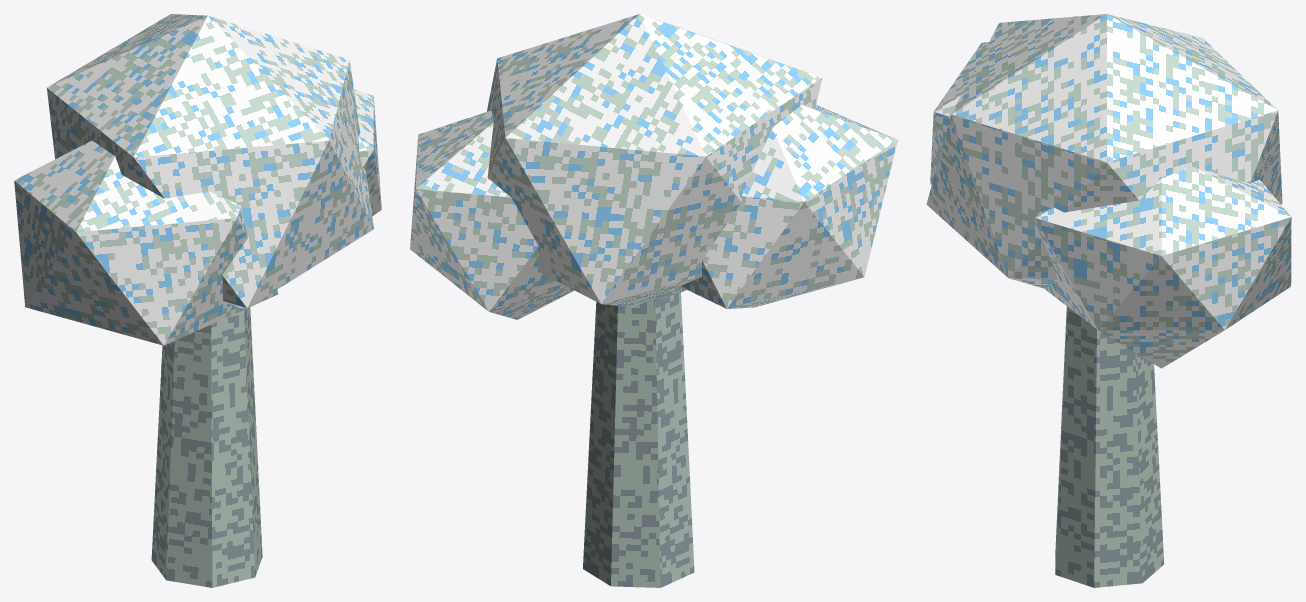
File: r09_arvore_nuvem_2.glb
3 views of the same model, side by side, from view 1: azimuth 30°, elevation 25°; view 2: azimuth 150°, elevation 25°; view 3: azimuth 270°, elevation 25° (orthographic).
Parts seen in each view (by area): view 1: r09_arvore_nuvem_2; view 2: r09_arvore_nuvem_2; view 3: r09_arvore_nuvem_2.
Part boxes in pixels (box(x1,y1,x2,y2)): r09_arvore_nuvem_2: box(14, 14, 381, 587); r09_arvore_nuvem_2: box(410, 14, 897, 587); r09_arvore_nuvem_2: box(926, 14, 1291, 587).
Bounding box in the file's own units: 4.37 × 5.78 × 3.48.
2 materials, 2 textured.
